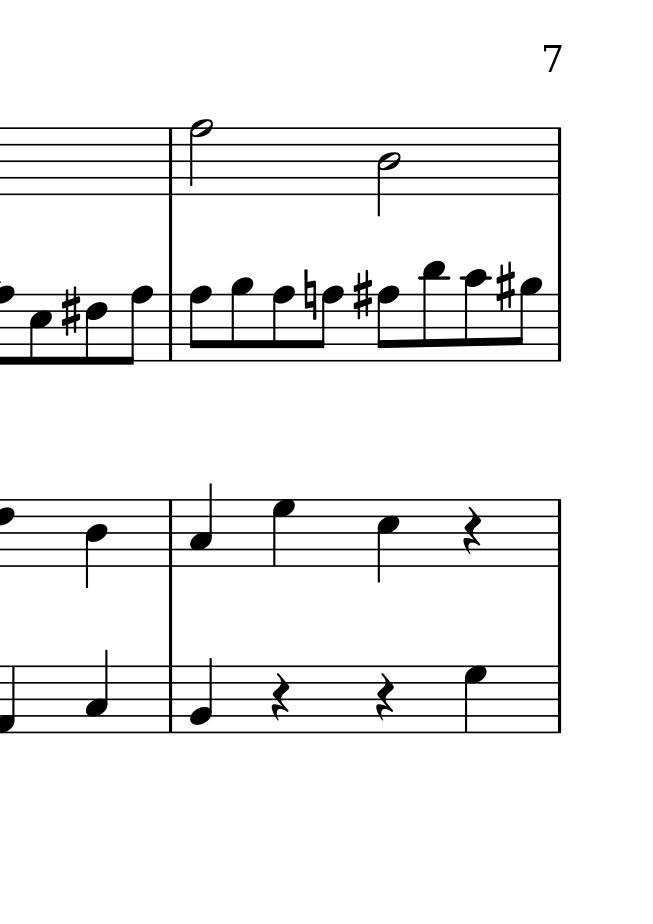2_4: (376, 129, 402, 214)
2_8: (188, 116, 212, 196)
4_2: (187, 657, 215, 734)
4_3: (189, 484, 213, 568), (85, 651, 109, 733)
4_4: (84, 499, 108, 588)
4_5: (375, 497, 399, 585)
4_7: (462, 663, 490, 733), (271, 499, 296, 568)
7: (542, 40, 565, 74)
8_10: (462, 267, 488, 364)
8_11: (420, 256, 449, 367)
8_5: (27, 291, 52, 367)
8_6: (84, 292, 108, 367)
8_8: (120, 284, 152, 368), (314, 284, 343, 364), (271, 284, 295, 365), (376, 284, 400, 365), (188, 284, 212, 364)
8_9: (511, 277, 543, 364), (230, 277, 254, 363)
Natural: (302, 268, 318, 323)
Rests4: (373, 673, 397, 724), (269, 672, 291, 724), (461, 506, 483, 557)
Sharp: (60, 285, 81, 338), (352, 269, 373, 321), (495, 260, 515, 313)
Single_barline: (162, 665, 179, 733), (162, 129, 179, 193), (162, 501, 179, 565), (551, 128, 567, 194), (552, 293, 567, 363), (551, 500, 567, 565), (551, 667, 567, 732), (163, 293, 178, 361)
